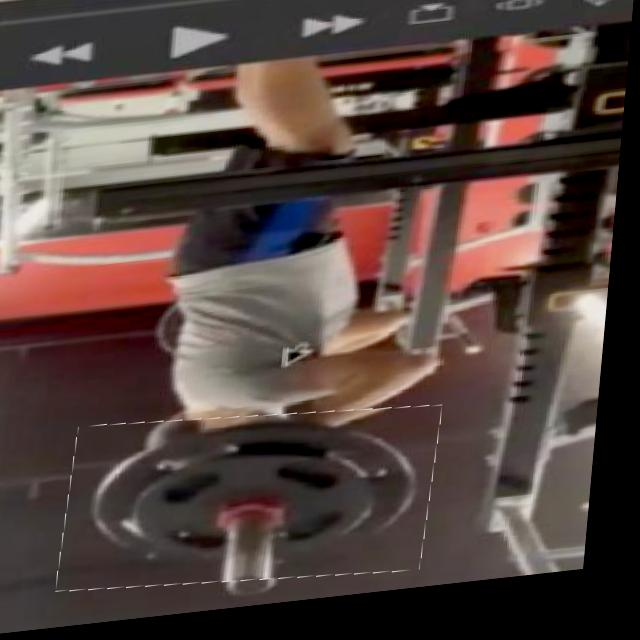barbell: (69, 403, 451, 609)
